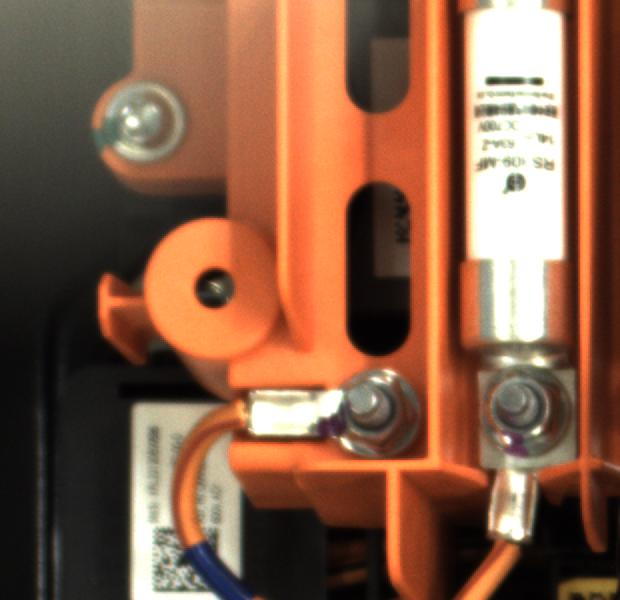screw_s: (326, 365, 424, 458), (482, 368, 571, 462)
